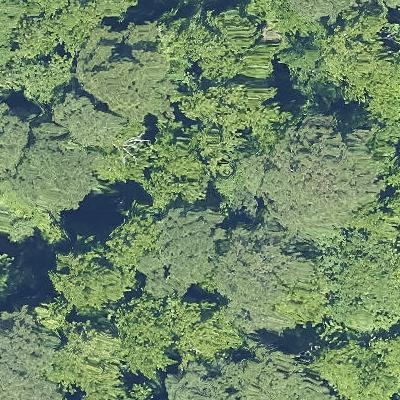tree-top: (254, 115, 384, 241), (212, 220, 311, 319), (305, 21, 397, 119), (46, 232, 134, 315), (112, 290, 189, 382), (78, 42, 173, 116), (17, 135, 95, 216), (181, 9, 265, 84), (182, 81, 284, 142), (326, 246, 397, 330), (219, 346, 325, 400), (55, 321, 121, 398), (160, 203, 218, 290), (174, 297, 247, 366), (10, 0, 102, 54), (318, 334, 394, 399), (1, 310, 54, 400), (146, 137, 210, 211), (43, 86, 122, 142), (6, 49, 78, 108), (251, 0, 352, 38), (165, 360, 244, 400), (210, 150, 259, 209), (0, 96, 31, 174), (0, 240, 21, 305), (84, 0, 146, 20), (125, 380, 151, 400)
